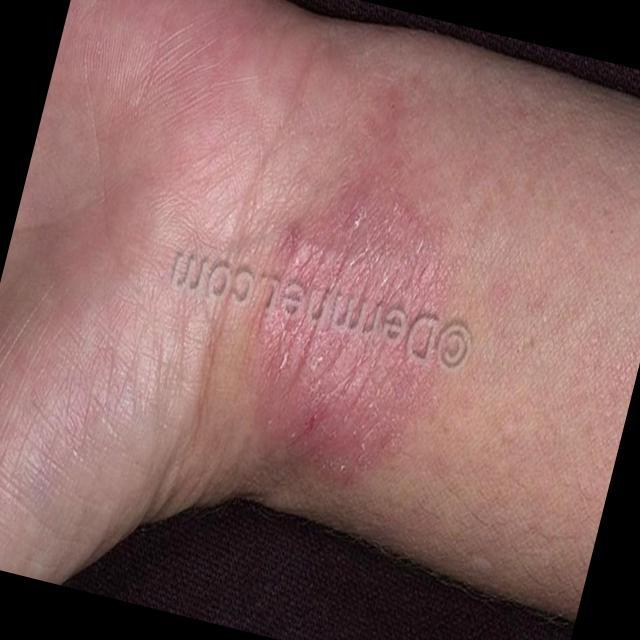Eczema: (218, 148, 443, 472)
